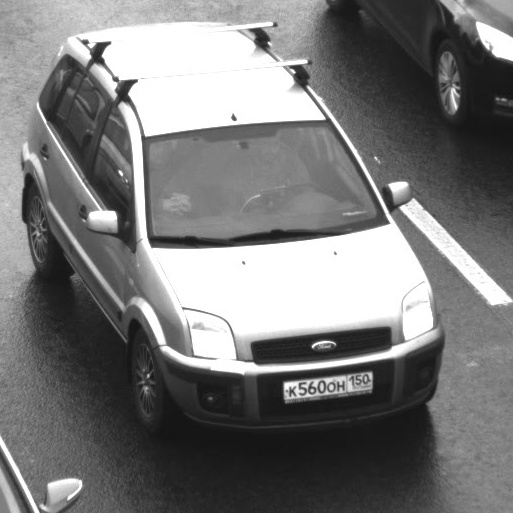plate: (270, 358, 381, 409)
